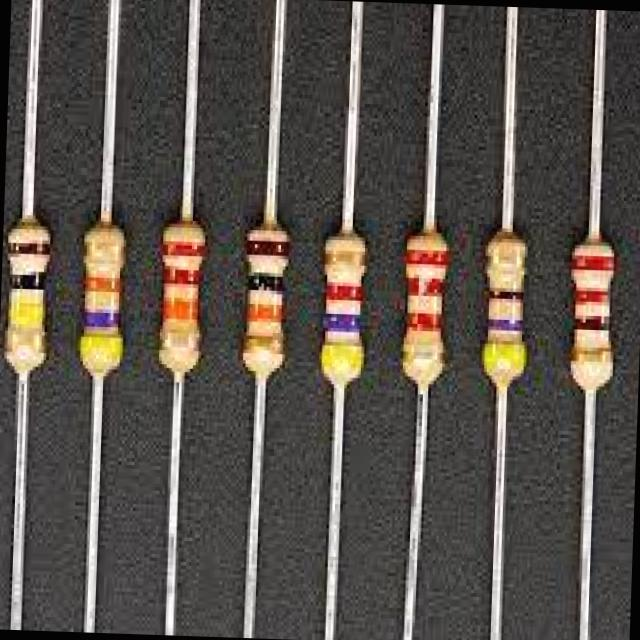Resistor: (80, 224, 126, 376), (484, 231, 527, 390), (405, 232, 448, 391), (321, 233, 365, 388), (161, 224, 205, 378), (6, 222, 50, 376), (245, 227, 289, 378), (573, 241, 614, 390)
black: (246, 276, 282, 290)
brown: (572, 316, 611, 331), (247, 241, 286, 256)
gold: (573, 348, 613, 365), (245, 338, 282, 356), (324, 251, 365, 267), (485, 255, 527, 269), (401, 351, 445, 363)
orange: (162, 298, 198, 320), (247, 305, 281, 324)
purple: (321, 314, 361, 331), (84, 314, 120, 327), (486, 319, 523, 330)
red: (570, 254, 616, 272), (408, 278, 445, 297), (322, 285, 364, 301), (408, 312, 443, 331), (405, 250, 448, 264), (165, 269, 199, 286), (163, 243, 205, 256), (575, 289, 612, 303)
yellow: (483, 345, 524, 368), (320, 349, 363, 367), (11, 301, 42, 324), (79, 339, 120, 355)
